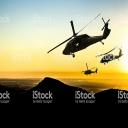helicopter: (47, 15, 113, 59), (98, 47, 126, 64), (82, 64, 100, 76)
